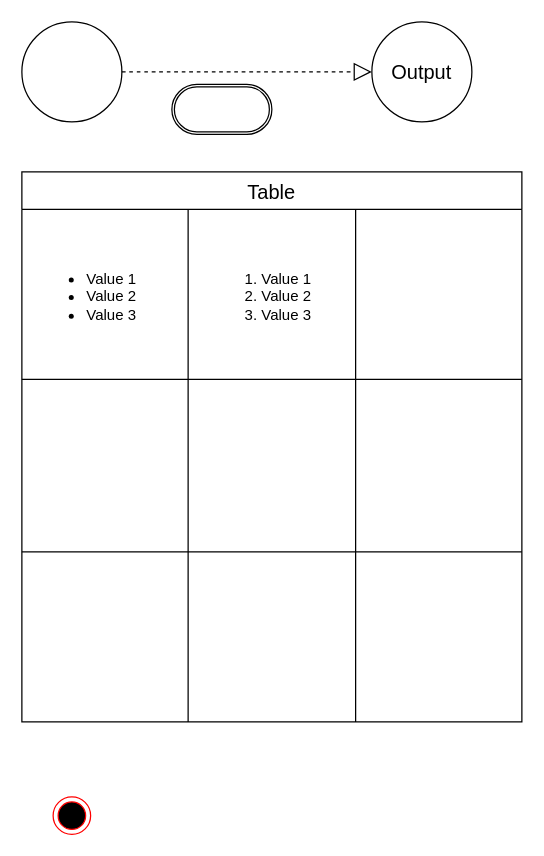
This 544x856 diagram has some shape labels left out. The centre of each missing label's shape, as x and y in pixels:
Input: point 71,71
Process: point 221,108
